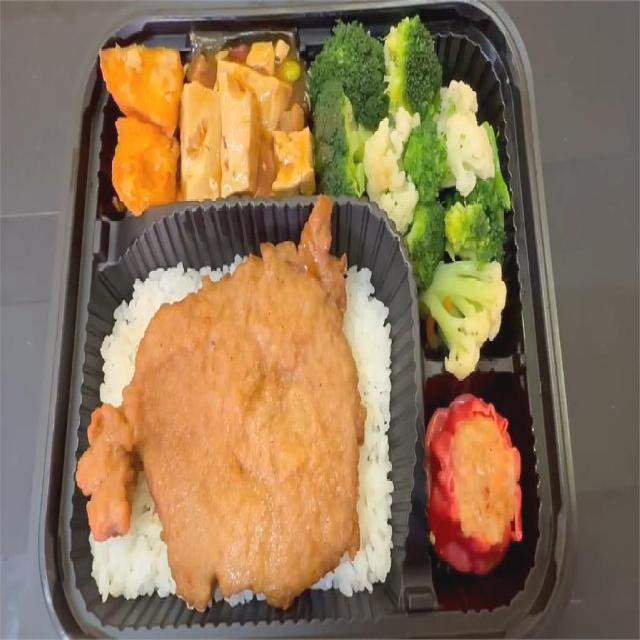cauliflower: (338, 58, 513, 240)
meat: (153, 326, 347, 536)
